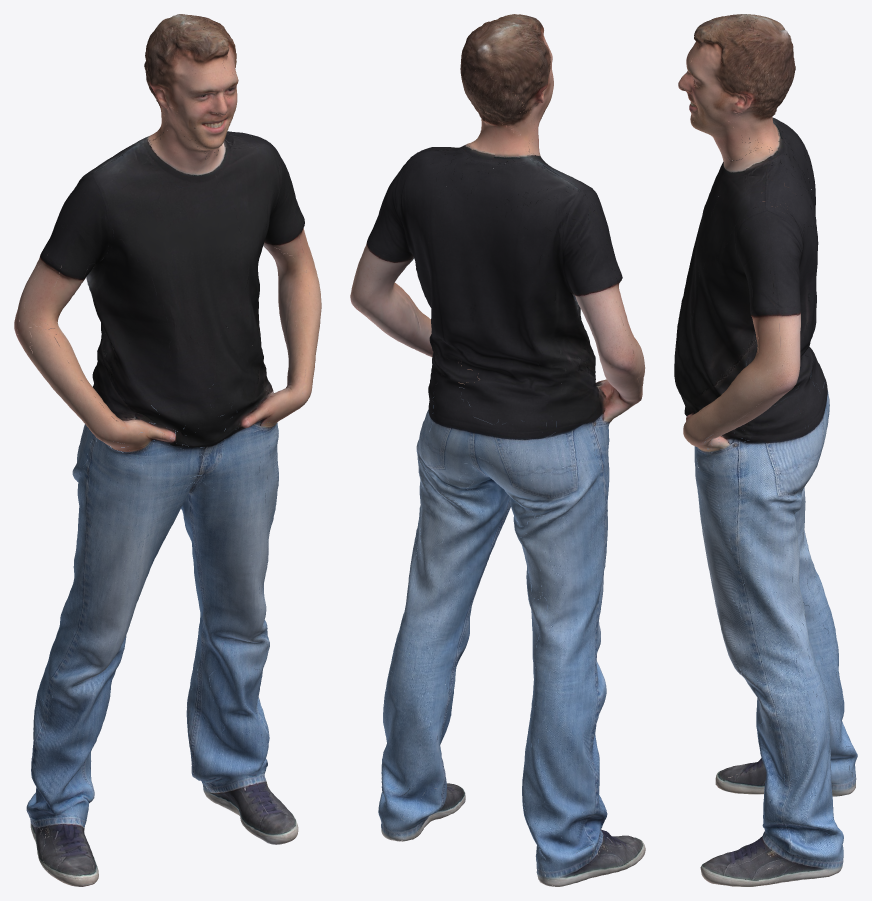
The model's file is nEric_.glb.
The picture shows the model from 3 angles, left to right: view 1: azimuth 30°, elevation 25°; view 2: azimuth 150°, elevation 25°; view 3: azimuth 270°, elevation 25°; orthographic projection. The views are drawn at different scales.
Parts seen in each view (by area): view 1: Eric_5; view 2: Eric_5; view 3: Eric_5.
Part boxes in pixels (x1,y1,x2,y2): Eric_5: (14,14,321,886); Eric_5: (350,14,645,886); Eric_5: (674,14,857,886).
Size of the model in its own units: 3.21 by 8.74 by 1.76.
Materials: 4 (4 with a texture image).
